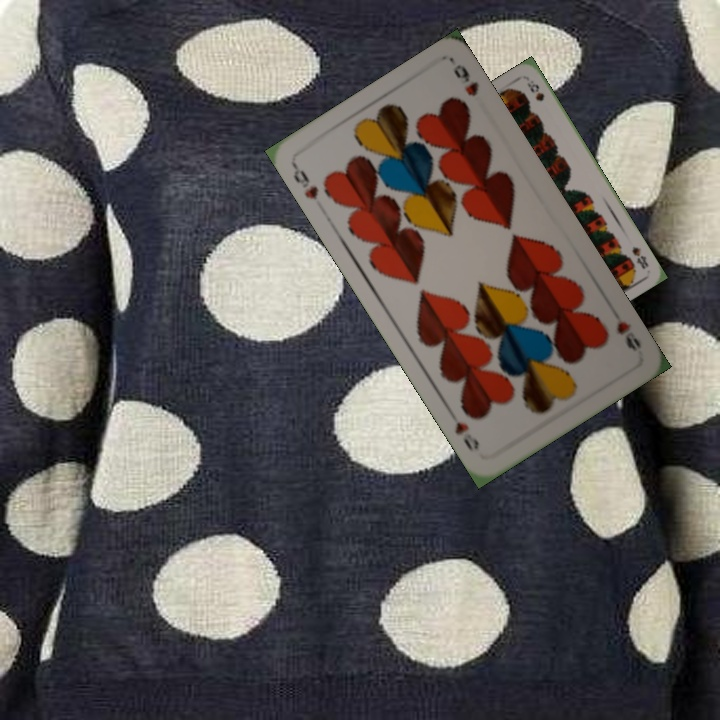H9: (289, 161, 321, 203), (612, 317, 644, 354)
S8: (628, 242, 651, 272)
